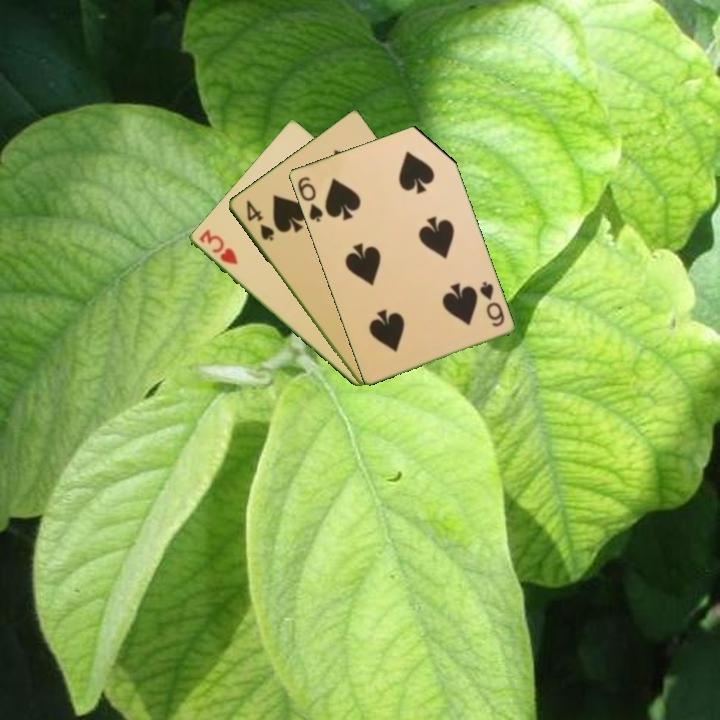3h: (195, 226, 240, 268)
4s: (242, 197, 277, 244)
6s: (294, 173, 325, 225), (476, 277, 507, 329)
